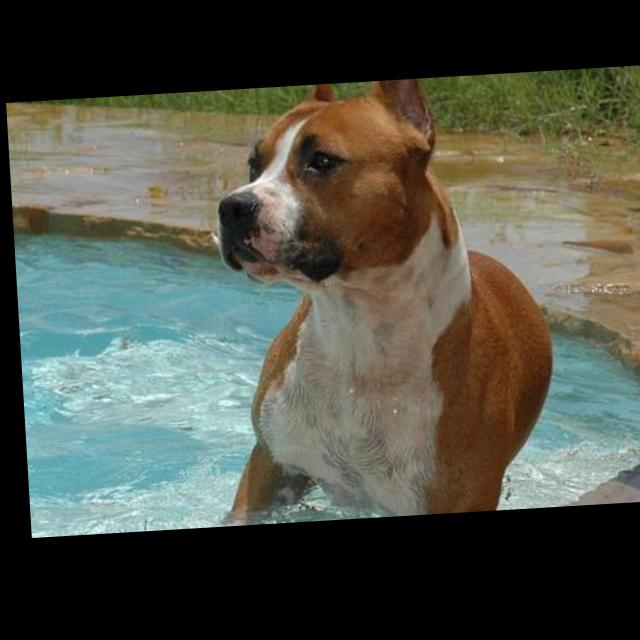amstaff: (194, 79, 556, 530)
